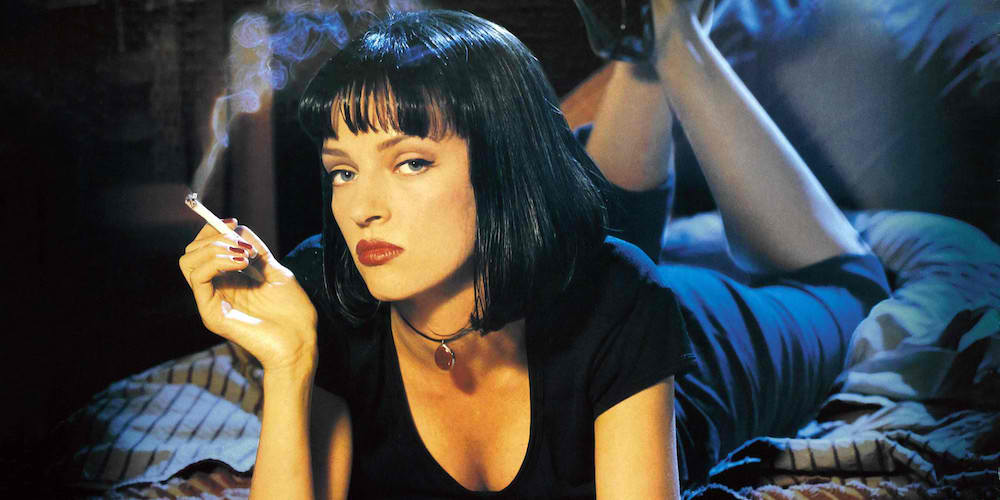cigarette: (176, 186, 245, 250)
